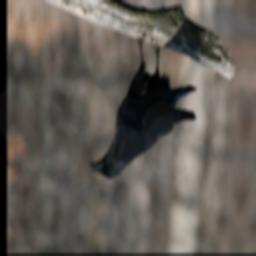Crow: (86, 21, 202, 199)
